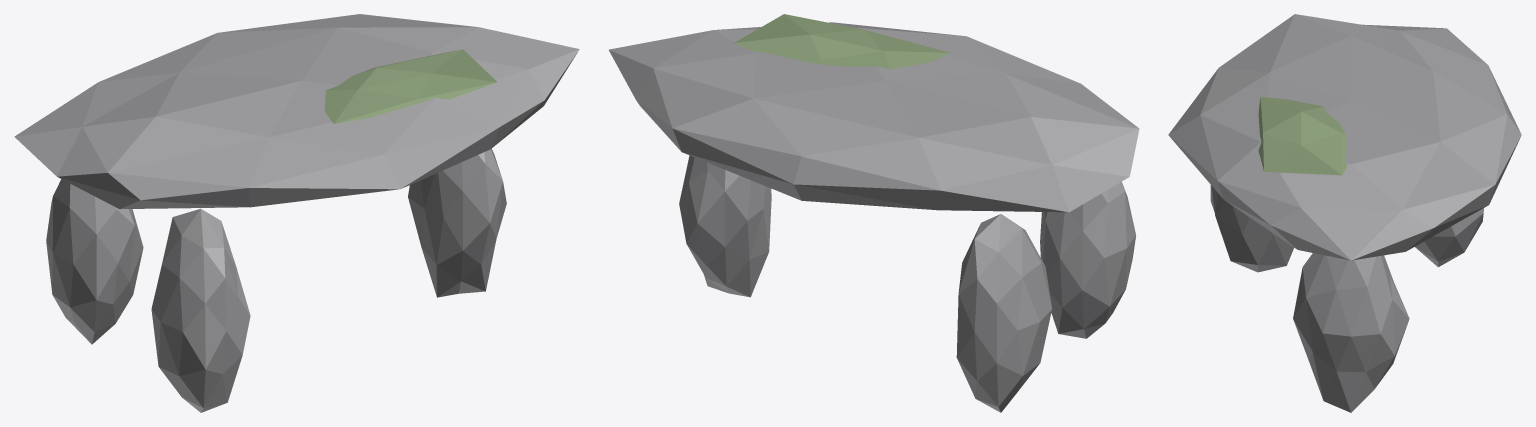
Rendered from dolmen.glb.
3 views of the same model, side by side, from view 1: azimuth 30°, elevation 25°; view 2: azimuth 150°, elevation 25°; view 3: azimuth 270°, elevation 25° (orthographic). The views are drawn at different scales.
Parts seen in each view (by area): view 1: dolmen; view 2: dolmen; view 3: dolmen.
Part boxes in pixels (left/top/right/bottom): dolmen: left=14, top=14, right=579, bottom=412; dolmen: left=609, top=14, right=1139, bottom=412; dolmen: left=1168, top=14, right=1521, bottom=412.
Bounding box in the file's own units: 4.5 × 2.15 × 2.84.
